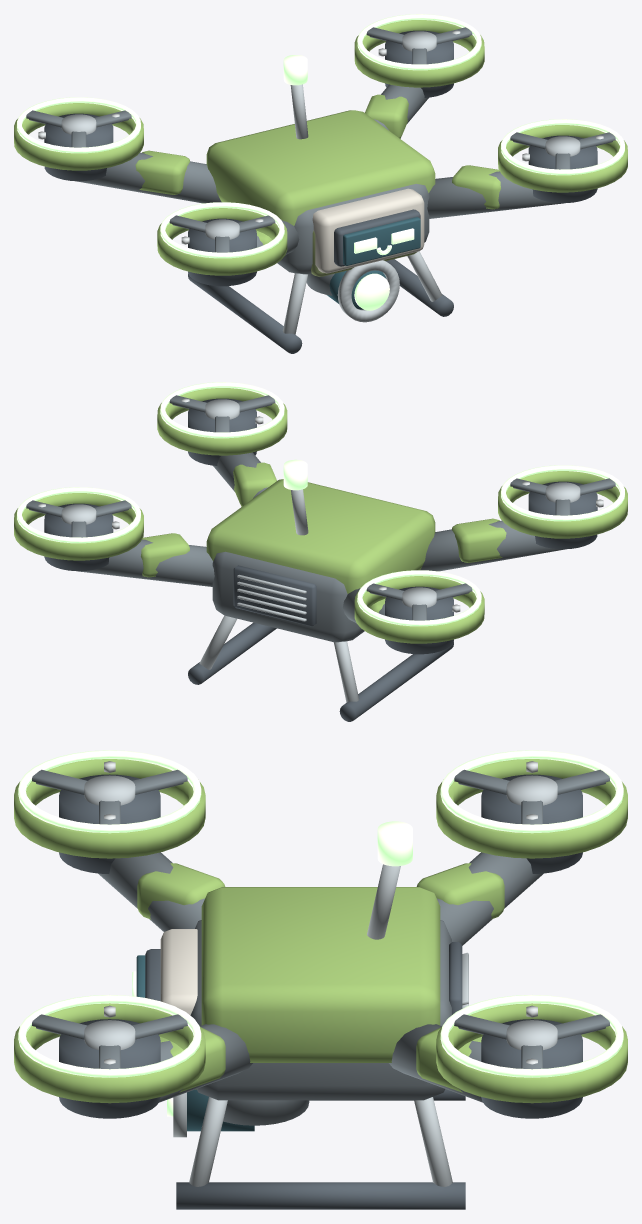
Rendered from scout_enhanced.glb.
3 views of the same model, one above another, from view 1: azimuth 30°, elevation 25°; view 2: azimuth 150°, elevation 25°; view 3: azimuth 270°, elevation 25° (orthographic). The views are drawn at different scales.
Visible parts, largest first — view 1: Armor_lime, RotorGuard_lime, RotorLED_glowgreen, Boom_frame, Motor_black, BoomArmor_lime, RotorBlade_frame, HeadArmor_cream, Skid_black, Rotor_steel, Core_frame, FaceGlass_glass (+8 smaller); view 2: Armor_lime, RotorGuard_lime, RotorLED_glowgreen, Boom_frame, Motor_black, Core_frame, BoomArmor_lime, RotorBlade_frame, Skid_black, Cooling_black, Rotor_steel, LandingGear_steel (+3 smaller); view 3: Armor_lime, RotorGuard_lime, RotorLED_glowgreen, Motor_black, Boom_frame, Core_frame, Skid_black, RotorBlade_frame, BoomArmor_lime, Rotor_steel, LandingGear_steel, HeadArmor_cream (+7 smaller).
Boxes of the visible parts, bbox=[...] form: Armor_lime: bbox=[206, 110, 435, 225]; RotorGuard_lime: bbox=[14, 20, 627, 275]; RotorLED_glowgreen: bbox=[17, 14, 624, 258]; Boom_frame: bbox=[77, 84, 563, 255]; Motor_black: bbox=[44, 30, 597, 286]; BoomArmor_lime: bbox=[135, 94, 500, 244]; RotorBlade_frame: bbox=[26, 27, 615, 252]; HeadArmor_cream: bbox=[312, 188, 424, 273]; Skid_black: bbox=[188, 259, 453, 353]; Rotor_steel: bbox=[61, 31, 580, 239]; Core_frame: bbox=[277, 183, 429, 274]; FaceGlass_glass: bbox=[343, 217, 420, 265]; Armor_lime: bbox=[206, 479, 435, 593]; RotorGuard_lime: bbox=[14, 388, 627, 643]; RotorLED_glowgreen: bbox=[17, 382, 624, 626]; Boom_frame: bbox=[78, 452, 564, 623]; Motor_black: bbox=[44, 398, 597, 654]; Core_frame: bbox=[212, 551, 364, 642]; BoomArmor_lime: bbox=[141, 462, 506, 612]; RotorBlade_frame: bbox=[26, 395, 615, 620]; Skid_black: bbox=[188, 622, 453, 721]; Cooling_black: bbox=[233, 565, 316, 626]; Rotor_steel: bbox=[61, 399, 580, 607]; LandingGear_steel: bbox=[199, 615, 358, 702]; Armor_lime: bbox=[201, 887, 440, 1062]; RotorGuard_lime: bbox=[14, 759, 627, 1103]; RotorLED_glowgreen: bbox=[18, 750, 623, 1077]; Motor_black: bbox=[59, 774, 582, 1118]; Boom_frame: bbox=[98, 852, 543, 1102]; Core_frame: bbox=[190, 920, 451, 1100]; Skid_black: bbox=[176, 1089, 465, 1209]; RotorBlade_frame: bbox=[31, 769, 610, 1069]; BoomArmor_lime: bbox=[137, 863, 504, 1092]; Rotor_steel: bbox=[84, 775, 557, 1049]; LandingGear_steel: bbox=[189, 1097, 452, 1186]; HeadArmor_cream: bbox=[160, 929, 197, 1015].
Size of the model in its own units: 1.97 by 0.9175 by 1.57.
